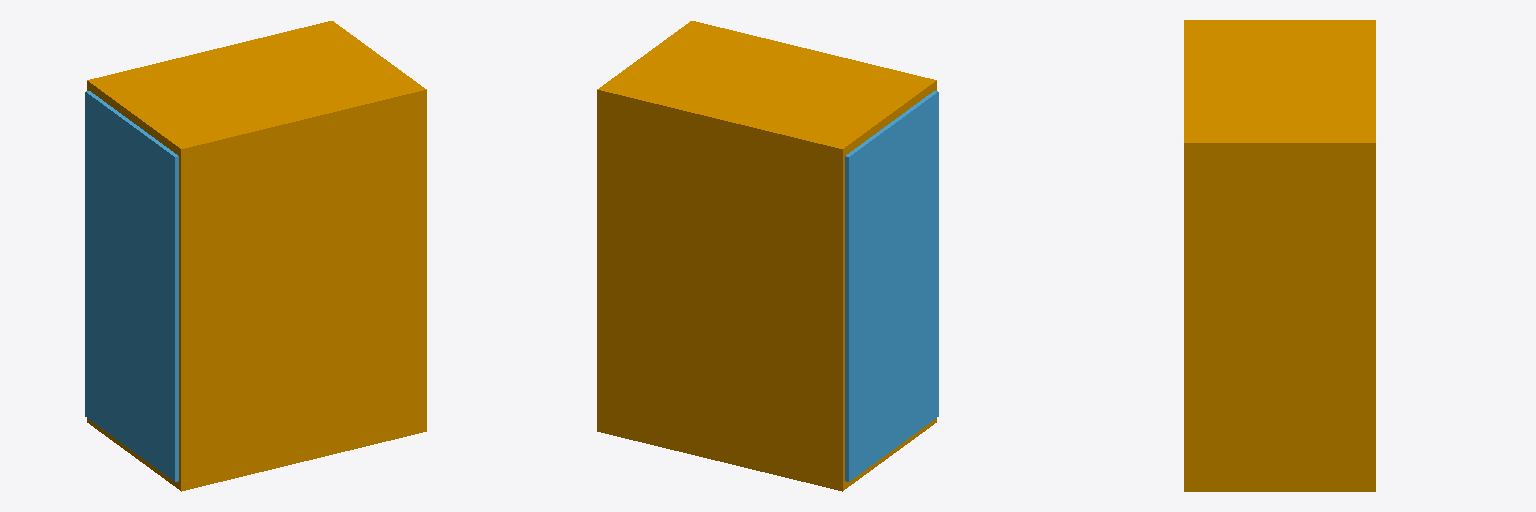
The robot description file, URDF, robot "cabinet_door":
<robot name="cabinet_door">
  <link name="parent"><visual><geometry><mesh filename="parent.obj"/></geometry></visual></link>
  <link name="child"><visual><geometry><mesh filename="child.obj"/></geometry></visual></link>
  <joint name="j" type="revolute">
    <parent link="parent"/><child link="child"/>
    <origin xyz="-0.300000 0.190000 0.400000" rpy="0 0 0"/>
    <axis xyz="0.000000 0.000000 1.000000"/>
  </joint>
</robot>

--- Facts derived from the render (not from the file) ---
The picture shows the robot from 3 angles, left to right: view 1: azimuth 30°, elevation 25°; view 2: azimuth 150°, elevation 25°; view 3: azimuth 270°, elevation 25°; orthographic projection.
Robot: cabinet_door — 2 links, 1 joints (1 revolute); root link parent; default pose: all joints at 0.
Visible links, largest first — view 1: parent, child; view 2: parent, child; view 3: parent.
Boxes of the visible links, <box> form: parent: <box>87,21,426,491</box>; child: <box>85,91,178,481</box>; parent: <box>597,21,936,491</box>; child: <box>845,91,938,481</box>; parent: <box>1184,20,1375,491</box>.
Size in the robot's own frame: 0.61 by 0.4 by 0.8 metres.
Meshes: 2 distinct files referenced, 2 mesh visuals loaded (2 OBJ).
